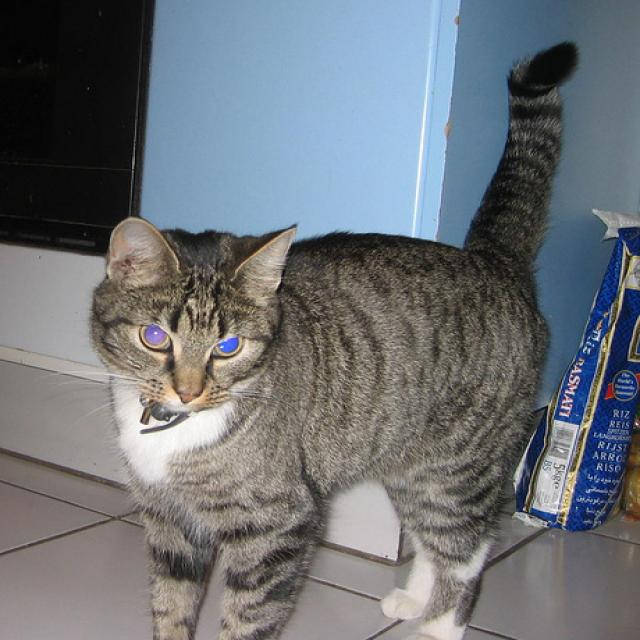left eye: (210, 332, 245, 360)
